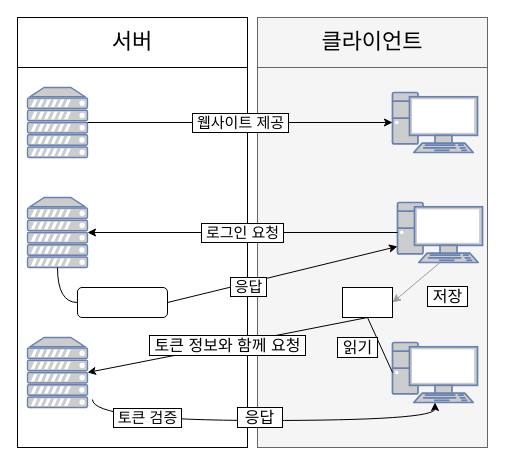
Image size: 505x465. Some labels were removed from this diagram. The shapes that lost their labels are listed below. From the top down, each one's box as (x1, y1, x2, y2) in pixels, then its label:
(76, 286, 168, 318): 토큰 생성
(342, 286, 392, 318): 토큰
